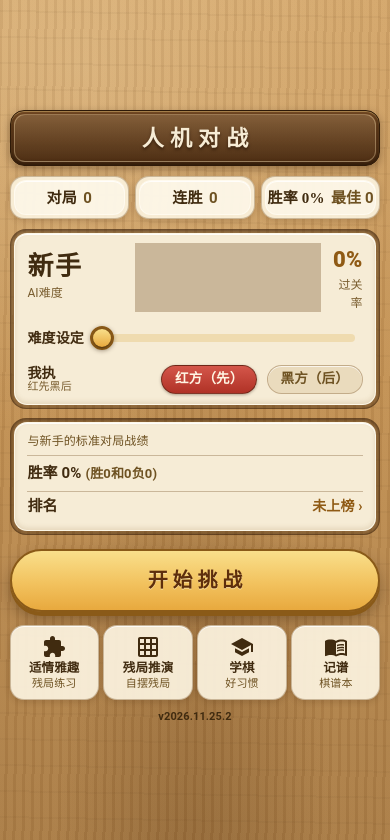
Test: 全局主页按钮（v2026.11.23.8） › 从主页进学棋再点主页，能回到主页（整链路）
Click the text "学棋": click(242, 669) [229, 662, 255, 676]
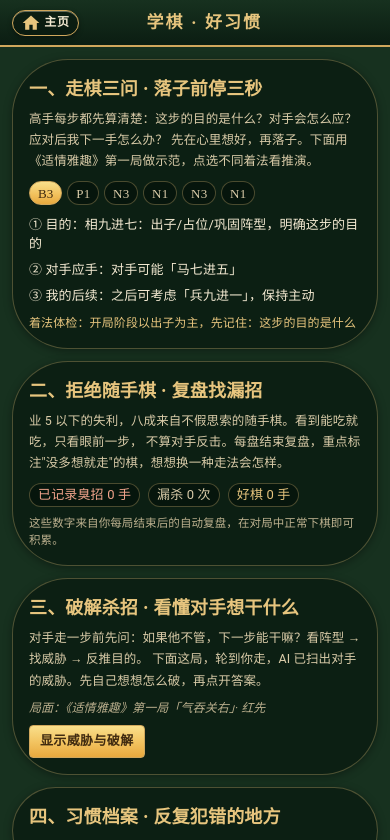
Now the text "学棋 · 好习惯" is shown, box [147, 10, 262, 35]
Click the button with test id "habit-home": click(45, 23) [12, 10, 79, 36]
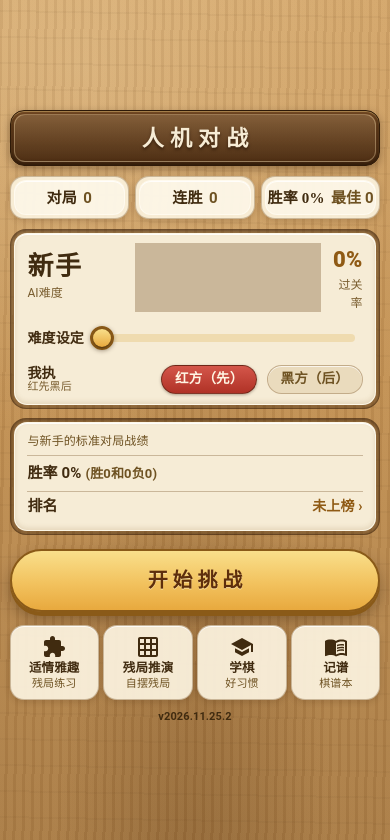
Now the button "开始挑战" is shown, box [10, 549, 380, 612]
